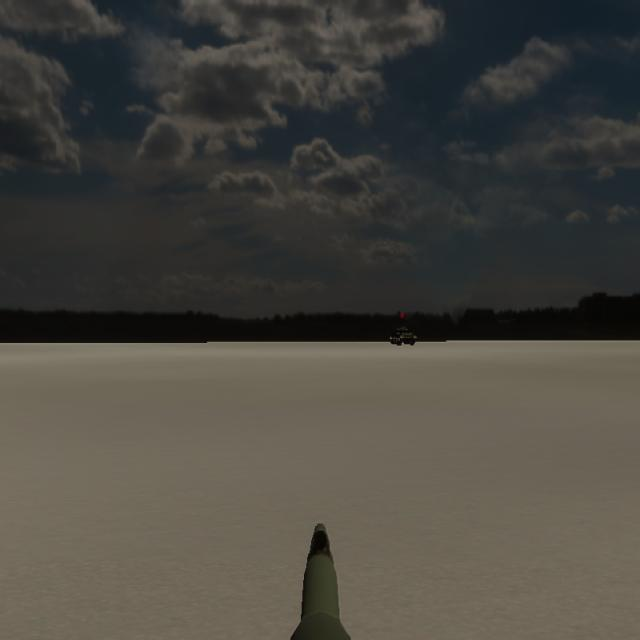enemy: (388, 323, 418, 347), (28, 493, 54, 495)
